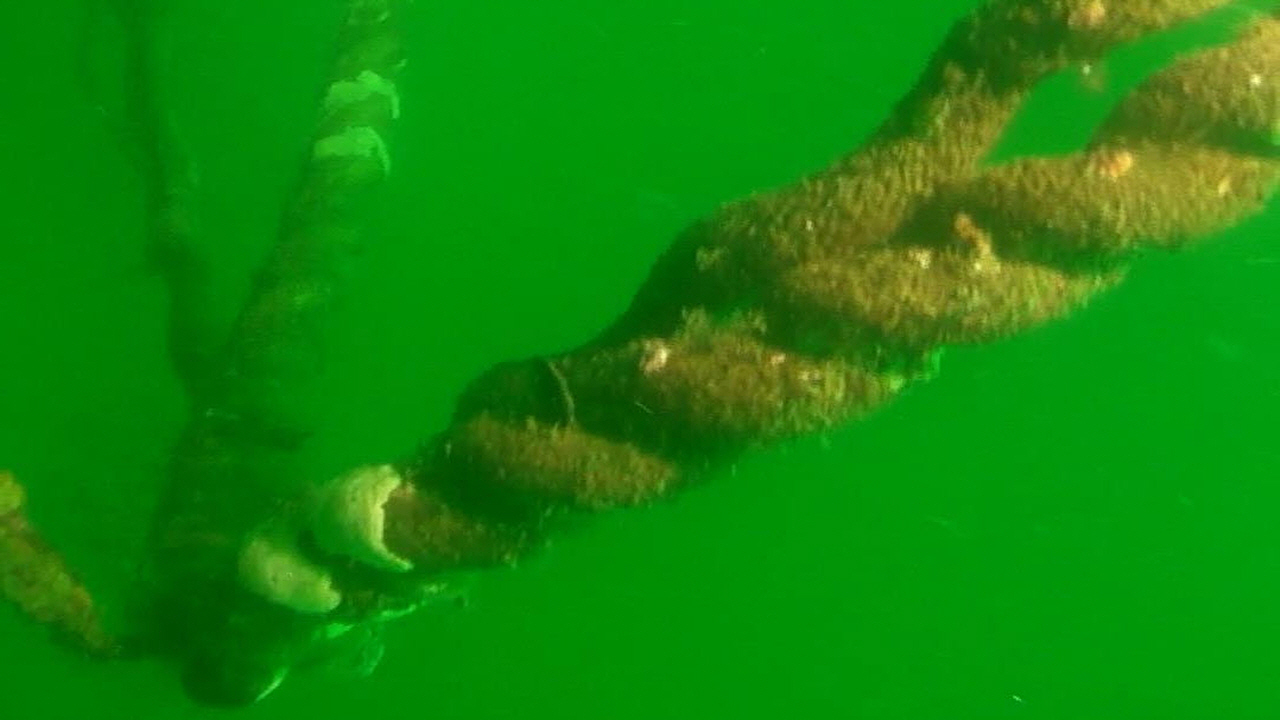rope: (142, 1, 1280, 706)
